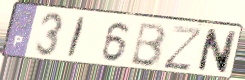3: (33, 10, 66, 61)
6: (101, 20, 133, 63)
B: (128, 22, 169, 69)
I: (64, 15, 88, 60)
N: (195, 27, 239, 76)
Z: (161, 24, 205, 72)
